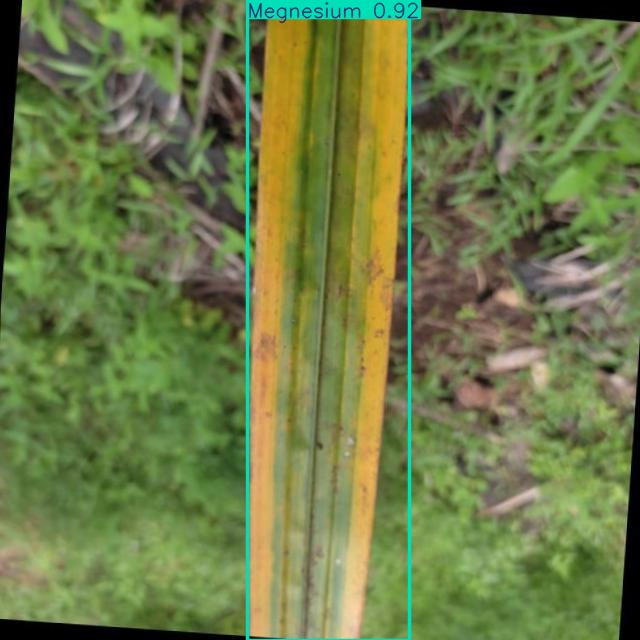Megnesium: (248, 0, 410, 640)
